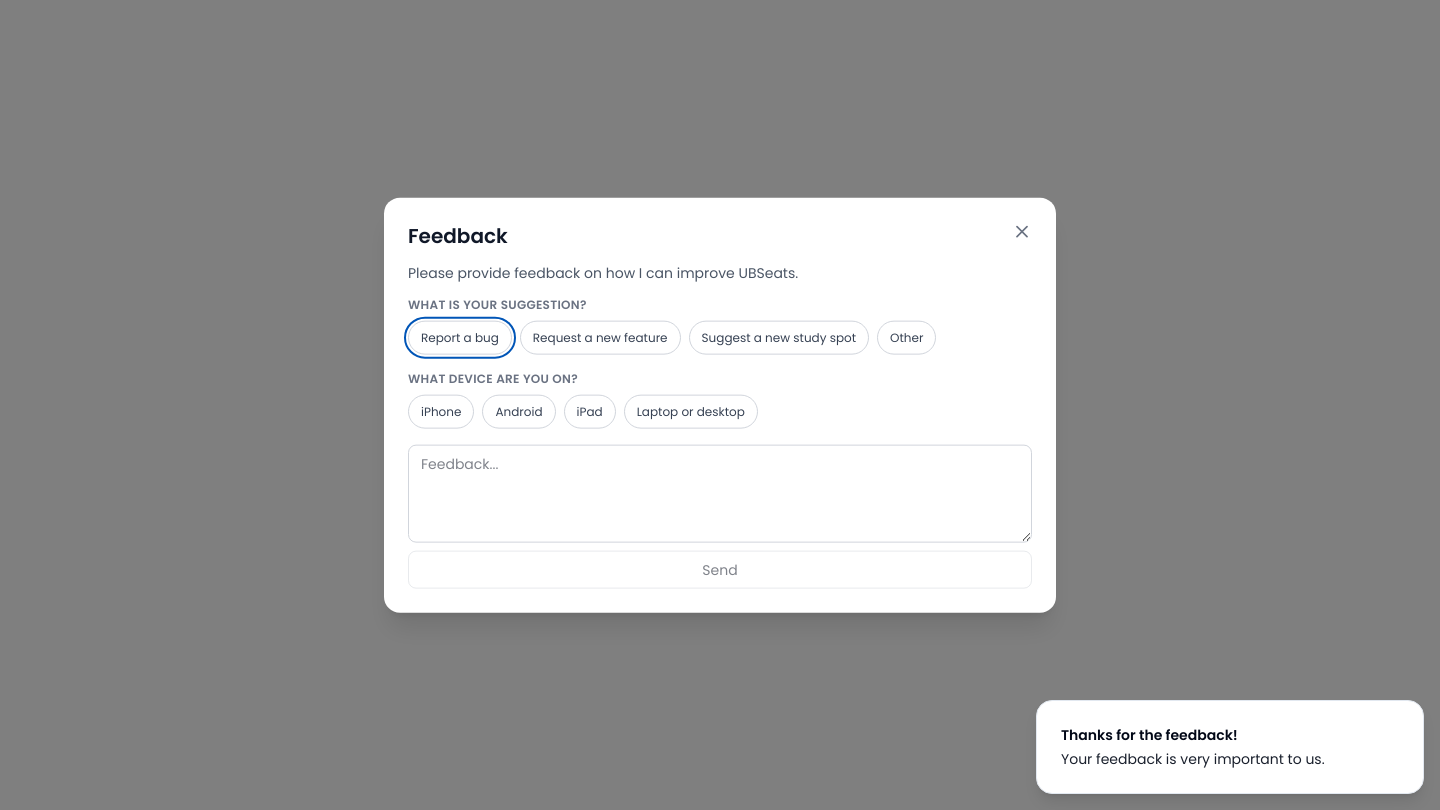
FeedbackModal › says Sending… while the request is in flight
Click the button "Report a bug" at {"x": 460, "y": 337}, box x1=408 y1=320 x2=512 y2=354
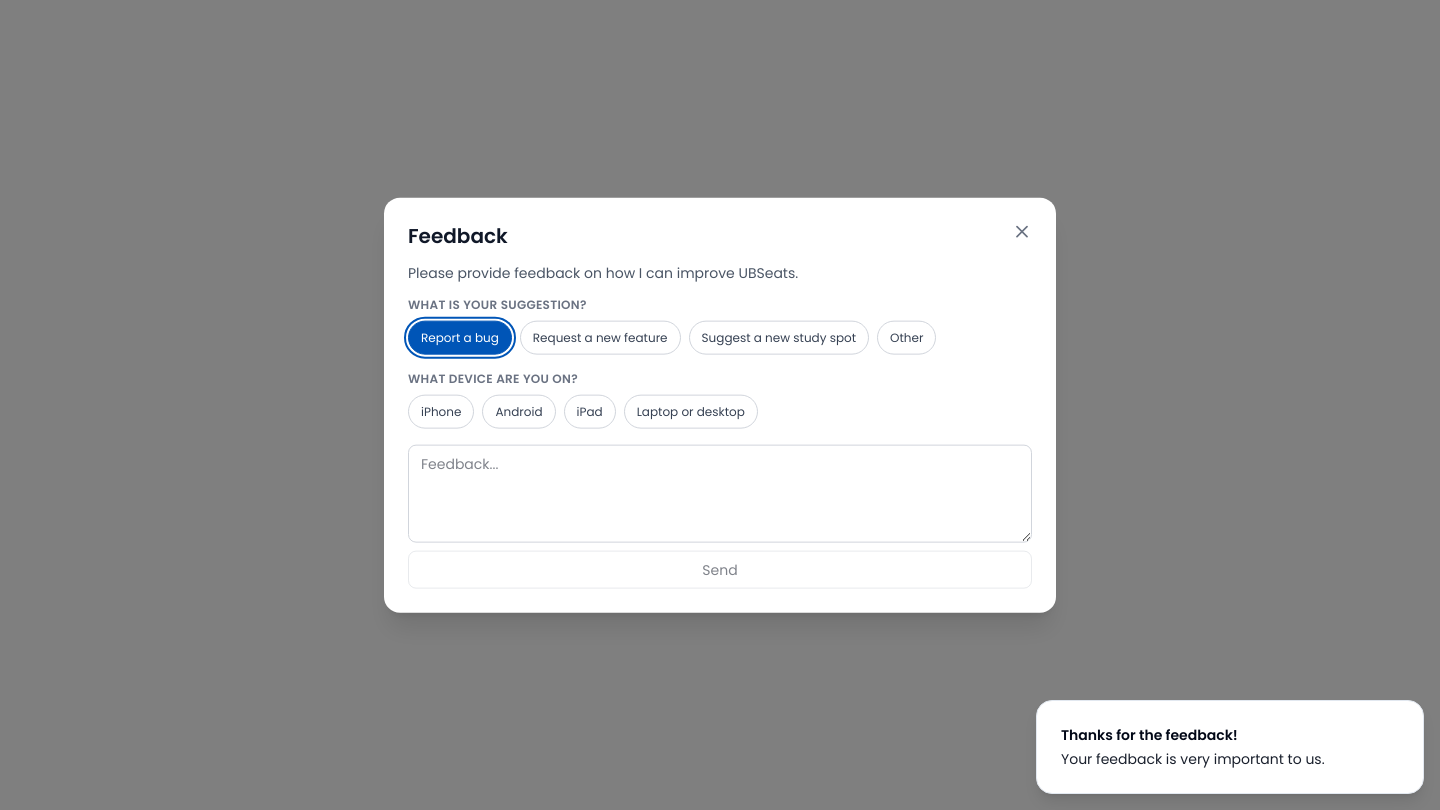
Click the button "Laptop or desktop" at {"x": 691, "y": 411}, box x1=624 y1=394 x2=758 y2=428
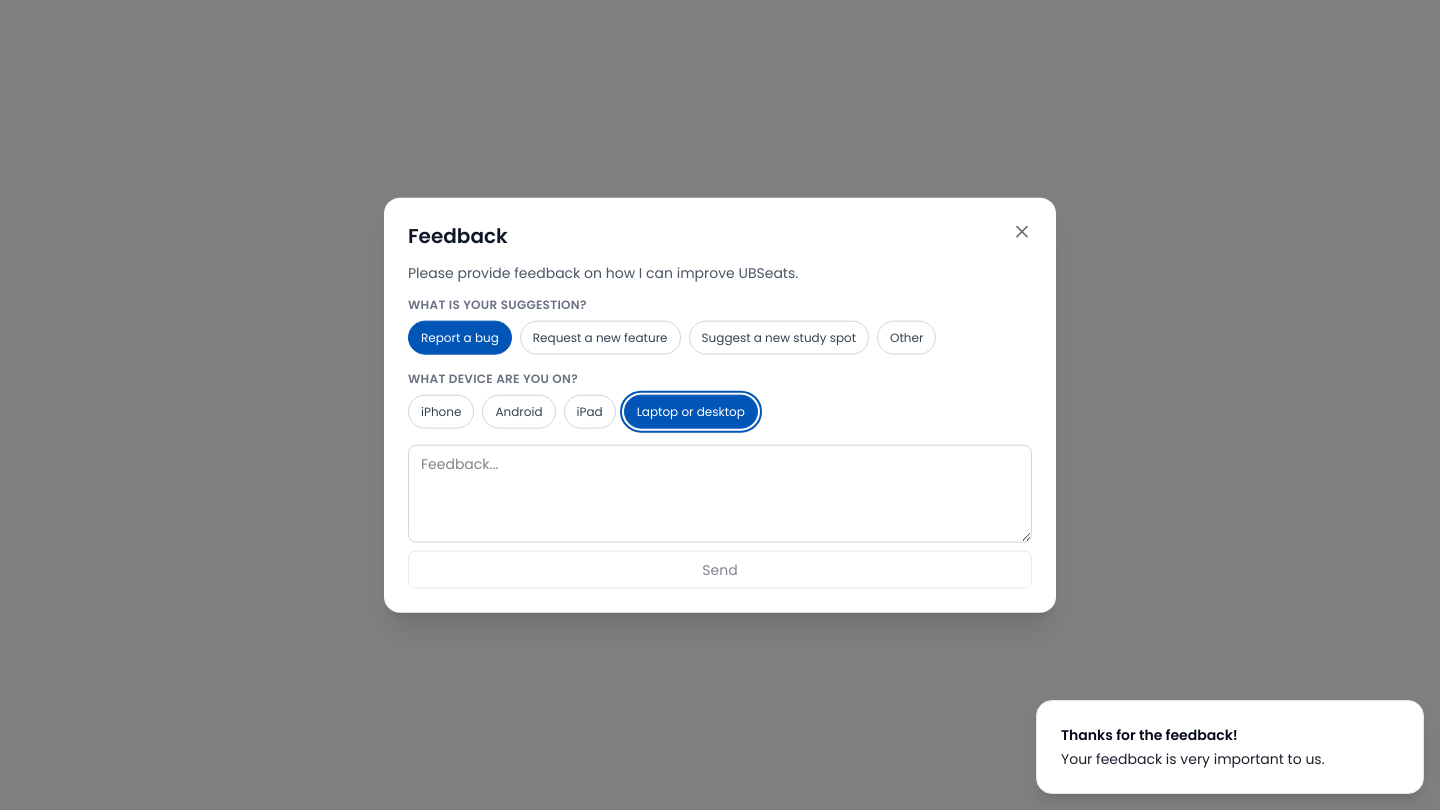
Type "  Map is slow  " into the text box named "Feedback message" at {"x": 720, "y": 493}, box x1=408 y1=444 x2=1032 y2=542
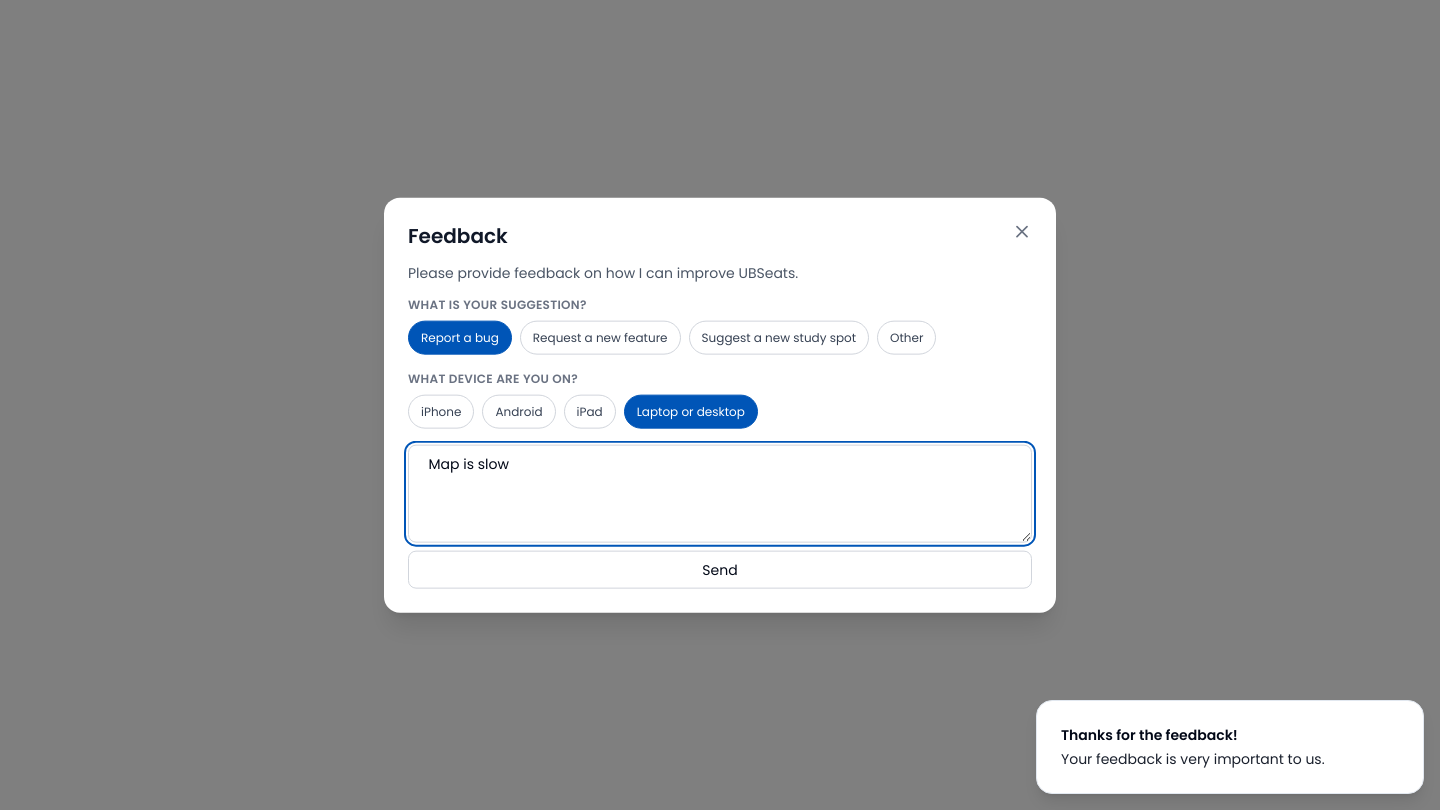
Click the button "Send" at {"x": 720, "y": 569}, box x1=408 y1=550 x2=1032 y2=588
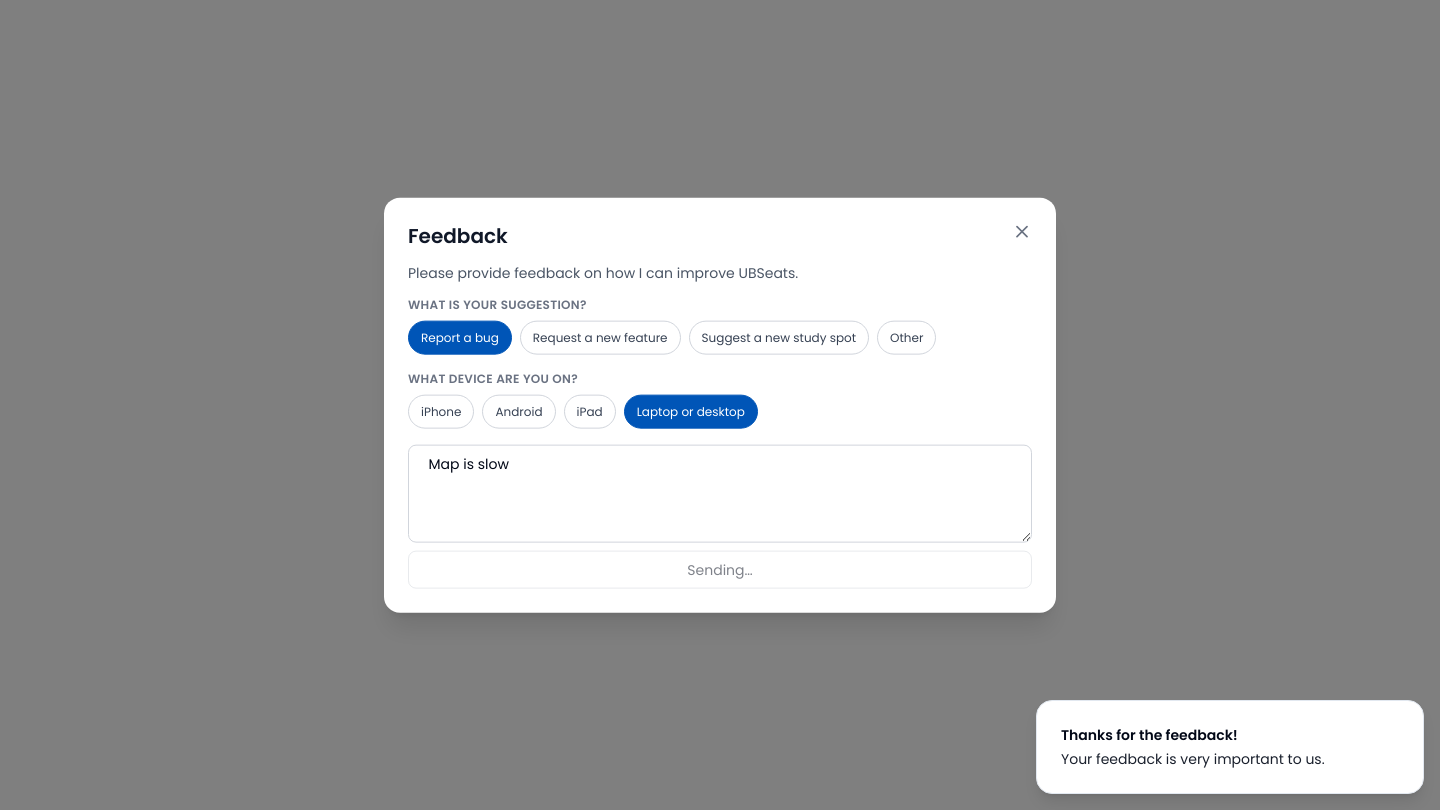
Now the button "Sending…" is disabled, box x1=408 y1=550 x2=1032 y2=588
